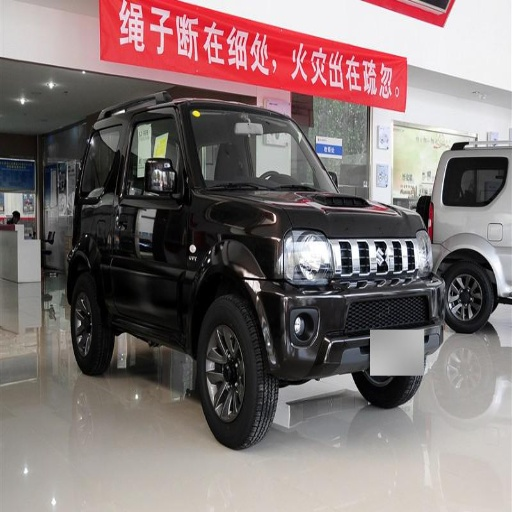front_bumper: (259, 239, 448, 380)
front_right_door: (156, 127, 182, 210)
front_right_light: (279, 229, 338, 293)
trunk: (83, 223, 180, 329)
